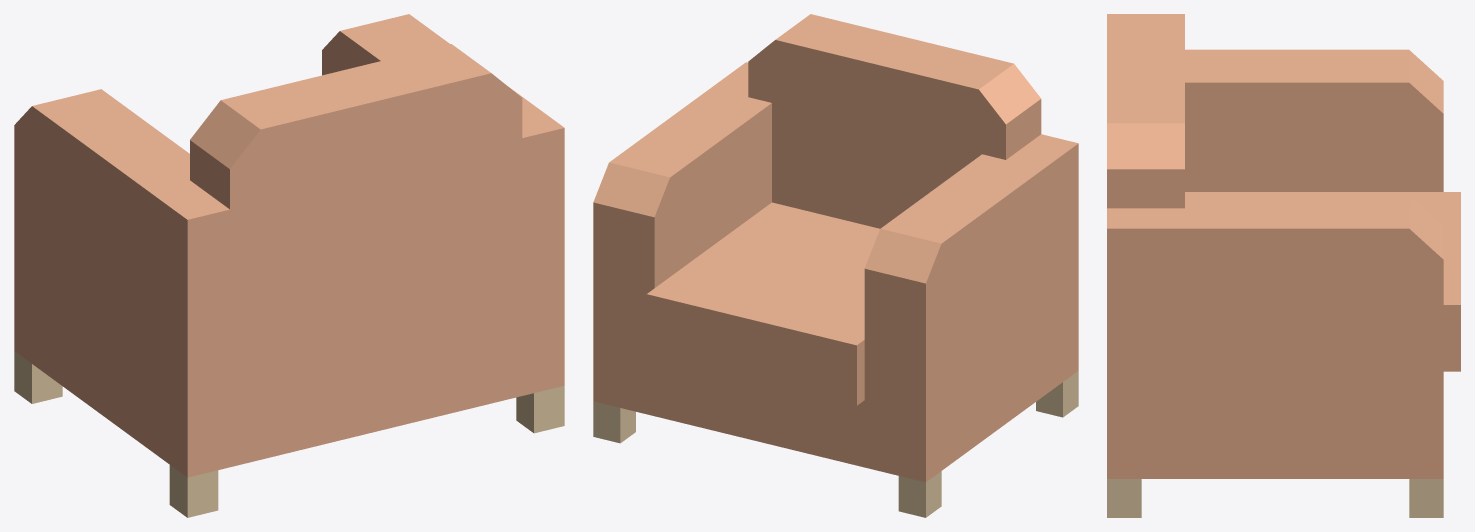
Rendered from loungeChair.glb.
3 views of the same model, side by side, from view 1: azimuth 30°, elevation 25°; view 2: azimuth 150°, elevation 25°; view 3: azimuth 270°, elevation 25° (orthographic). The views are drawn at different scales.
Parts seen in each view (by area): view 1: loungeChair; view 2: loungeChair; view 3: loungeChair.
Part boxes in pixels (box(x1,y1,x2,y2)): loungeChair: box(14, 14, 564, 517); loungeChair: box(593, 14, 1078, 517); loungeChair: box(1107, 14, 1460, 517).
Bounding box in the file's own units: 4.9 × 4.6 × 4.1.
